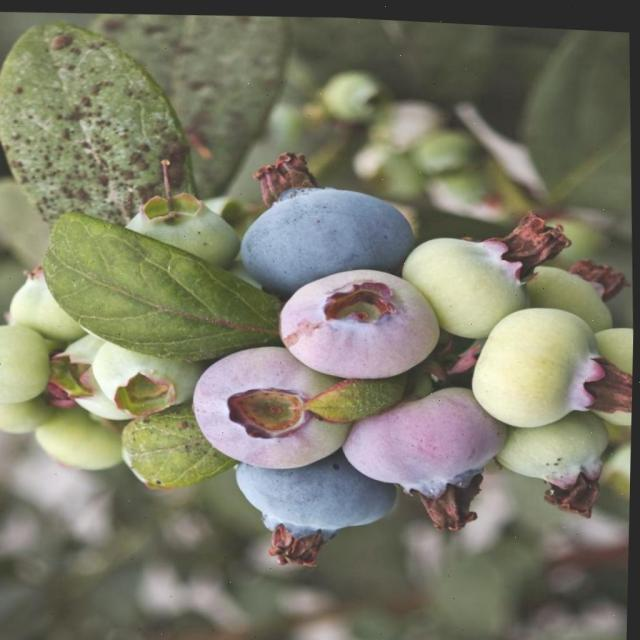RipeBlueBerry: (233, 171, 421, 297), (232, 449, 408, 548)
Semi-RipeBlueBerry: (186, 335, 354, 474), (275, 256, 447, 382), (341, 374, 515, 496)
UnripeBlueBerry: (464, 294, 612, 428), (397, 225, 532, 338), (122, 186, 240, 273), (496, 407, 614, 488), (92, 335, 199, 414), (0, 323, 53, 406)
